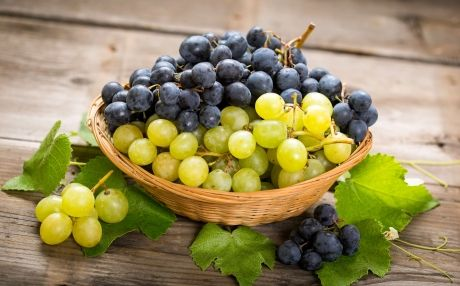Black grapes: (128, 26, 316, 104), (267, 204, 369, 275)
Green grapes: (147, 123, 346, 195), (28, 174, 131, 249)
